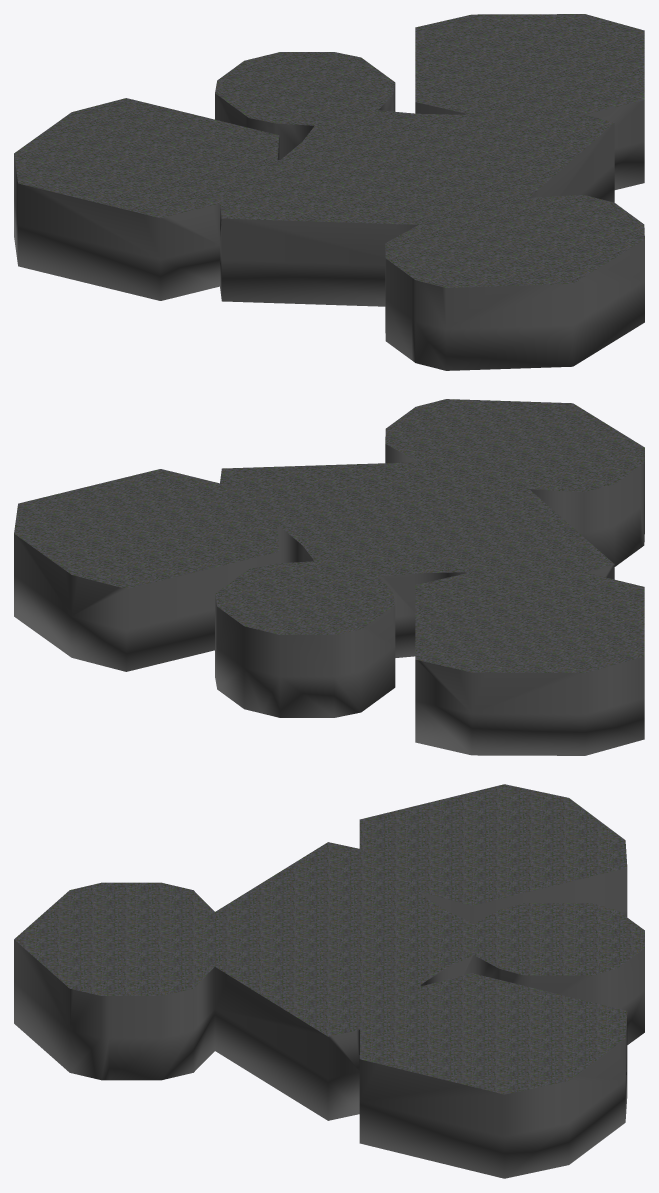
File: Stage2.fbx
3 renders of one model, top to bottom at view 1: azimuth 30°, elevation 25°; view 2: azimuth 150°, elevation 25°; view 3: azimuth 270°, elevation 25°, orthographic.
Parts seen in each view (by area): view 1: Stage2; view 2: Stage2; view 3: Stage2.
Boxes of the visible parts, <box> form: Stage2: <box>14,14,644,370</box>; Stage2: <box>14,399,644,755</box>; Stage2: <box>14,784,644,1178</box>.
Size of the model in its own units: 468 by 59.12 by 402.
Materials: 2 (2 with a texture image).
